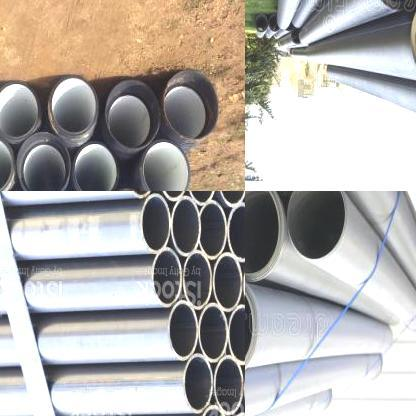pipe: (287, 191, 345, 261), (105, 79, 161, 149), (164, 70, 219, 140), (245, 191, 284, 281), (16, 131, 70, 191), (48, 76, 98, 136), (139, 139, 190, 191), (0, 81, 40, 140), (73, 142, 118, 191), (171, 195, 201, 256), (214, 356, 244, 416), (182, 354, 212, 414), (168, 300, 198, 360), (212, 252, 242, 312), (198, 200, 228, 260), (141, 194, 170, 255), (199, 303, 228, 363), (183, 250, 212, 310), (153, 248, 182, 307), (227, 203, 245, 262), (228, 304, 245, 364), (0, 135, 14, 191), (187, 191, 217, 206), (218, 191, 245, 207)
